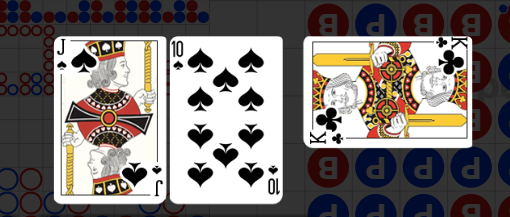10S: (267, 163, 281, 196)
JS: (55, 38, 99, 85), (122, 159, 166, 205)
